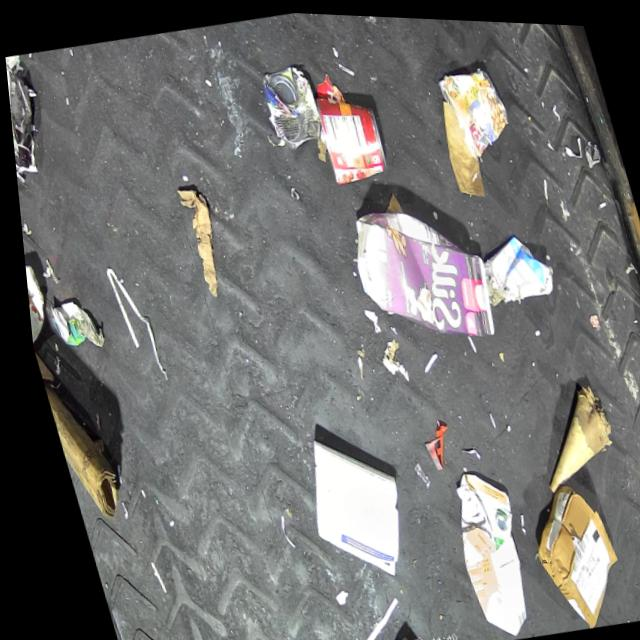can: (308, 84, 391, 187), (433, 59, 516, 158), (252, 57, 327, 153), (19, 257, 48, 346)
non_white_jug: (336, 186, 498, 353), (430, 463, 537, 640)
